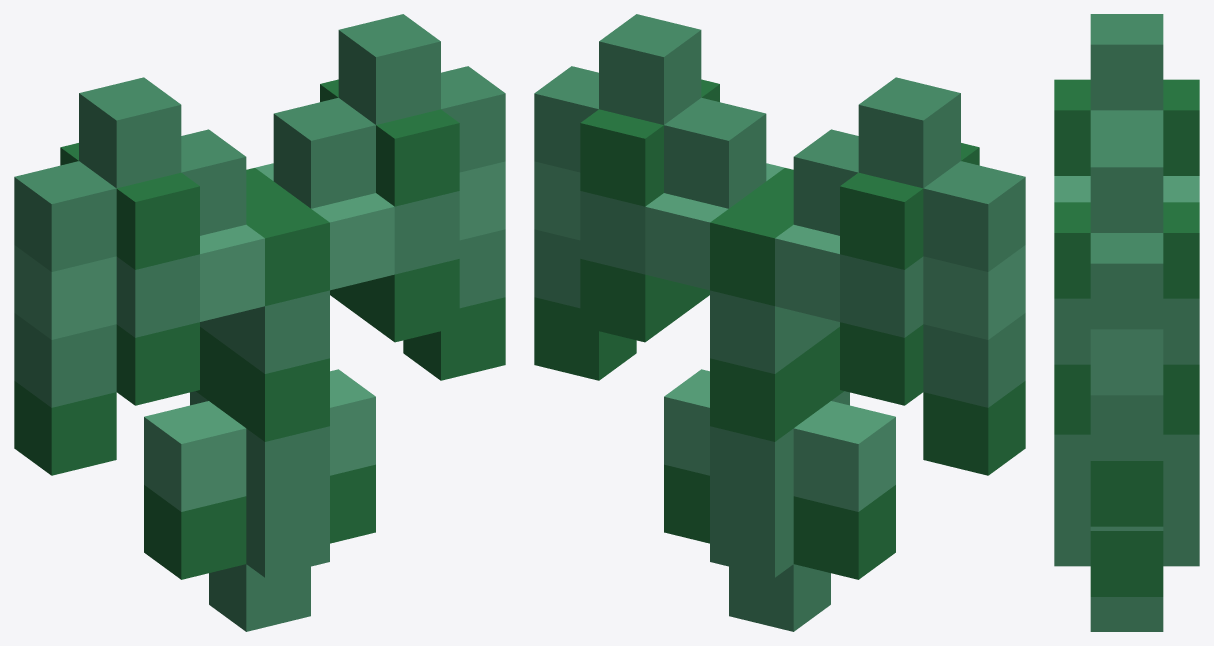
Rendered from Pine Fern.glb.
The picture shows the model from 3 angles, left to right: view 1: azimuth 30°, elevation 25°; view 2: azimuth 150°, elevation 25°; view 3: azimuth 270°, elevation 25°; orthographic projection. The views are drawn at different scales.
Visible parts, largest first — view 1: generated(Clone); view 2: generated(Clone); view 3: generated(Clone).
Boxes of the visible parts, x1,y1,x2,y2 form: generated(Clone): (14, 14, 505, 631); generated(Clone): (534, 14, 1025, 631); generated(Clone): (1054, 14, 1199, 631).
Bounding box in the file's own units: 7 × 8 × 2.
1 material, 1 textured.
